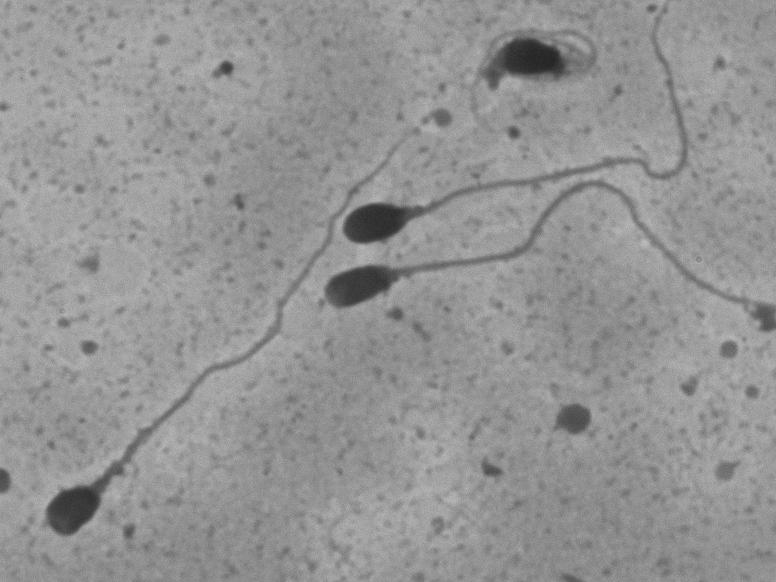Abnormal: (37, 104, 438, 546), (340, 6, 706, 249), (318, 173, 747, 316), (458, 12, 615, 145)
